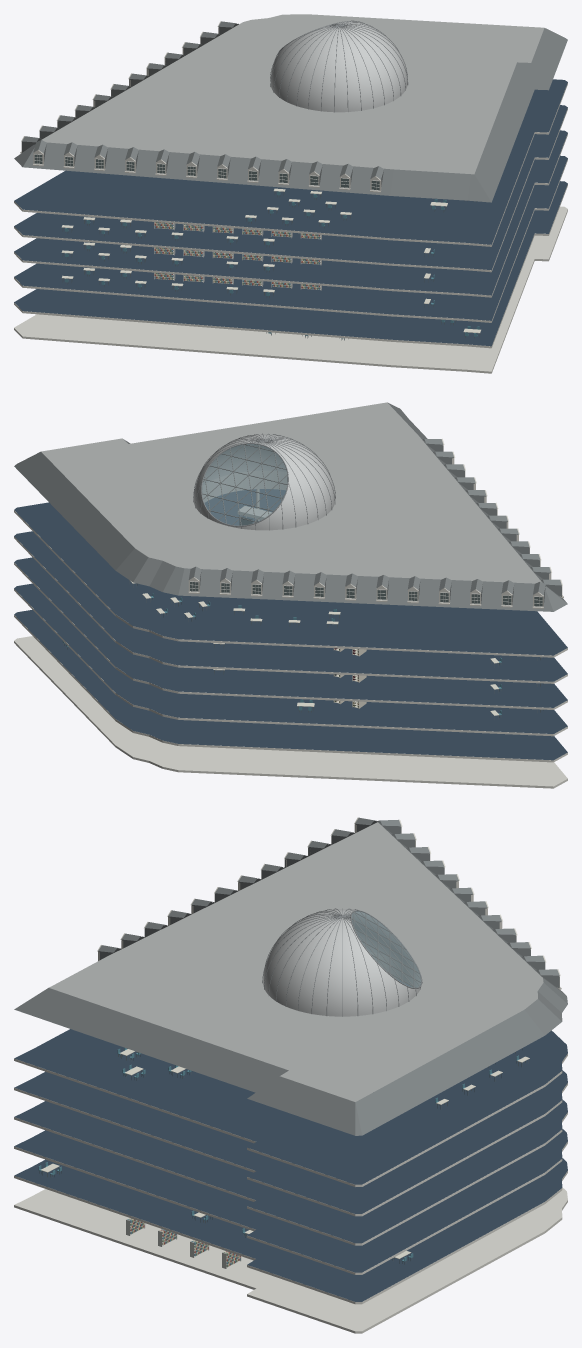
File: lrb-interior-a2833915085e.glb
The picture shows the model from 3 angles, top to bottom: view 1: azimuth 30°, elevation 25°; view 2: azimuth 150°, elevation 25°; view 3: azimuth 270°, elevation 25°; orthographic projection. The views are drawn at different scales.
Visible parts, largest first — view 1: LRB.001; view 2: LRB.001; view 3: LRB.001.
Part boxes in pixels (<box>): LRB.001: <box>14,14,567,373</box>; LRB.001: <box>14,402,567,788</box>; LRB.001: <box>14,817,567,1333</box>.
Size of the model in its own units: 89.08 by 38.93 by 68.53.
